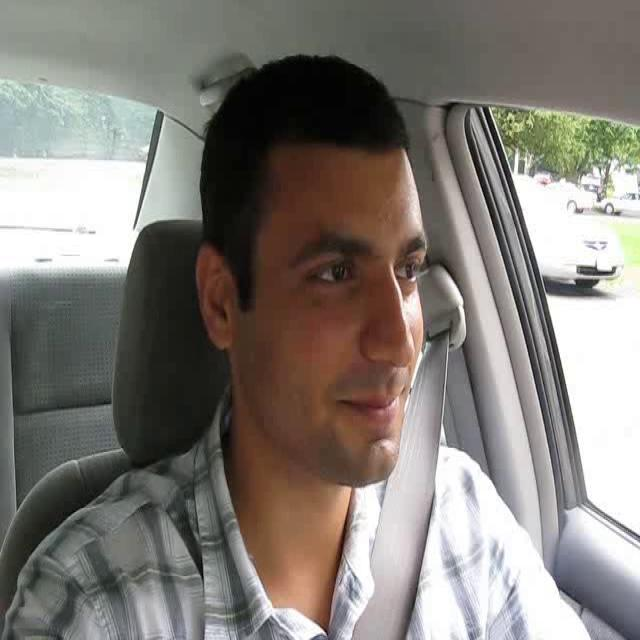close: (340, 381, 404, 425)
